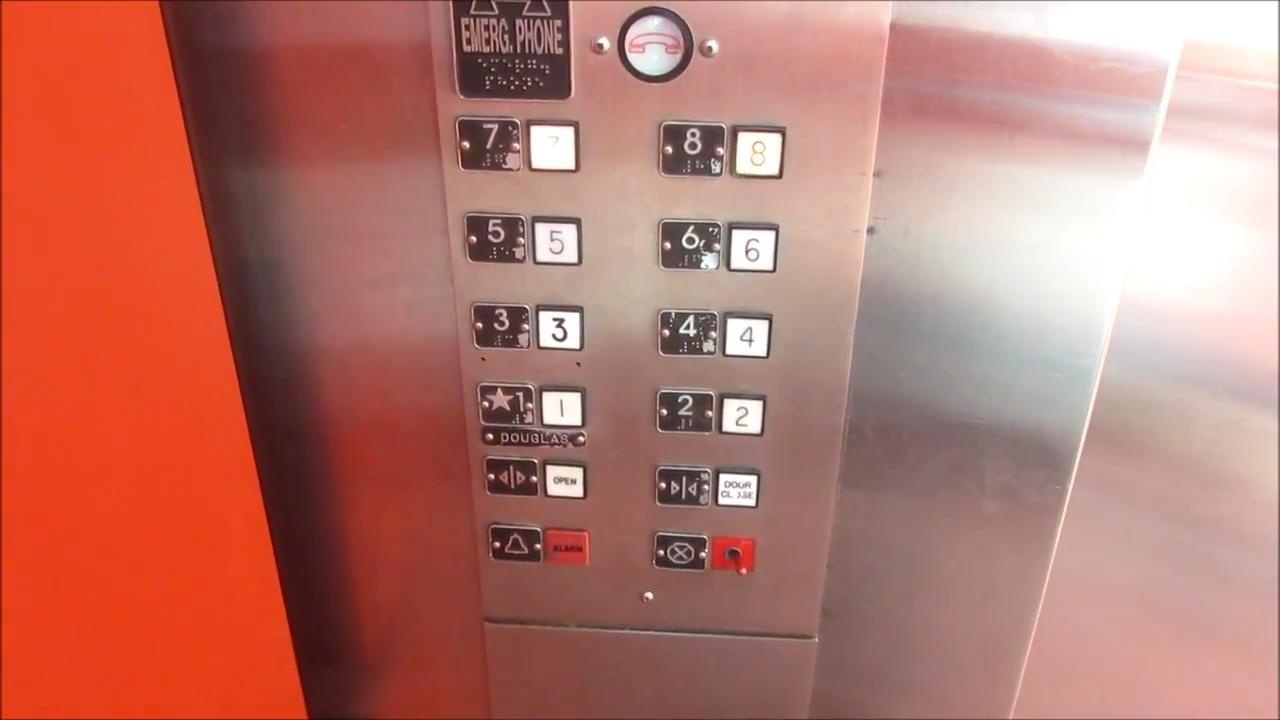1: (475, 381, 538, 428), (537, 384, 587, 429)
2: (654, 387, 718, 436), (717, 391, 767, 437)
3: (470, 301, 533, 352), (535, 302, 585, 351)
4: (657, 307, 719, 357), (722, 310, 773, 359)
5: (463, 211, 529, 265), (530, 215, 584, 267)
6: (657, 218, 723, 271), (725, 221, 780, 273)
7: (455, 114, 524, 176)
8: (657, 120, 728, 178), (731, 124, 787, 181)
alarm: (487, 521, 544, 566)
blur: (524, 118, 581, 174)
bt_switch: (710, 535, 756, 576)
call: (615, 4, 696, 84)
close: (654, 464, 713, 509)
open: (482, 455, 541, 497)
stop: (652, 531, 709, 573)
text_alarm: (543, 527, 591, 566)
text_close: (714, 467, 762, 509)
text_open: (542, 460, 588, 500)
